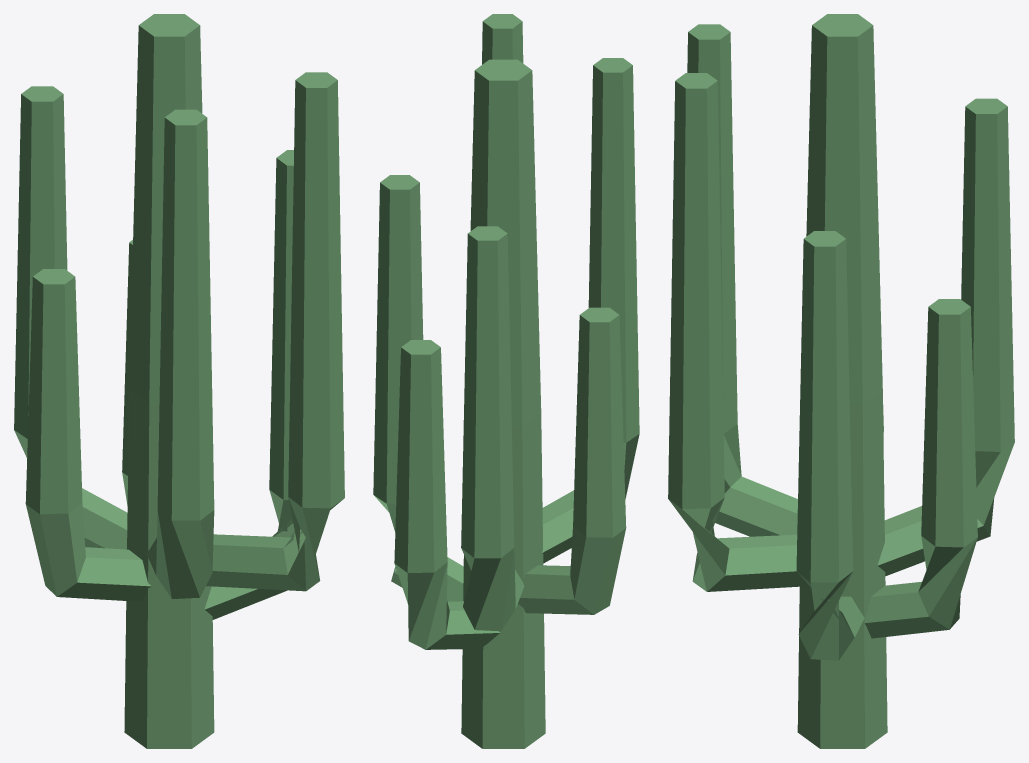
Rendered from cactus.glb.
3 views of the same model, side by side, from view 1: azimuth 30°, elevation 25°; view 2: azimuth 150°, elevation 25°; view 3: azimuth 270°, elevation 25° (orthographic). The views are drawn at different scales.
Parts seen in each view (by area): view 1: SG_Cactus; view 2: SG_Cactus; view 3: SG_Cactus.
Boxes of the visible parts, bbox=[...] form: SG_Cactus: bbox=[14, 14, 344, 748]; SG_Cactus: bbox=[373, 14, 639, 748]; SG_Cactus: bbox=[668, 14, 1014, 748].
Size of the model in its own units: 1.32 by 3.3 by 1.47.
